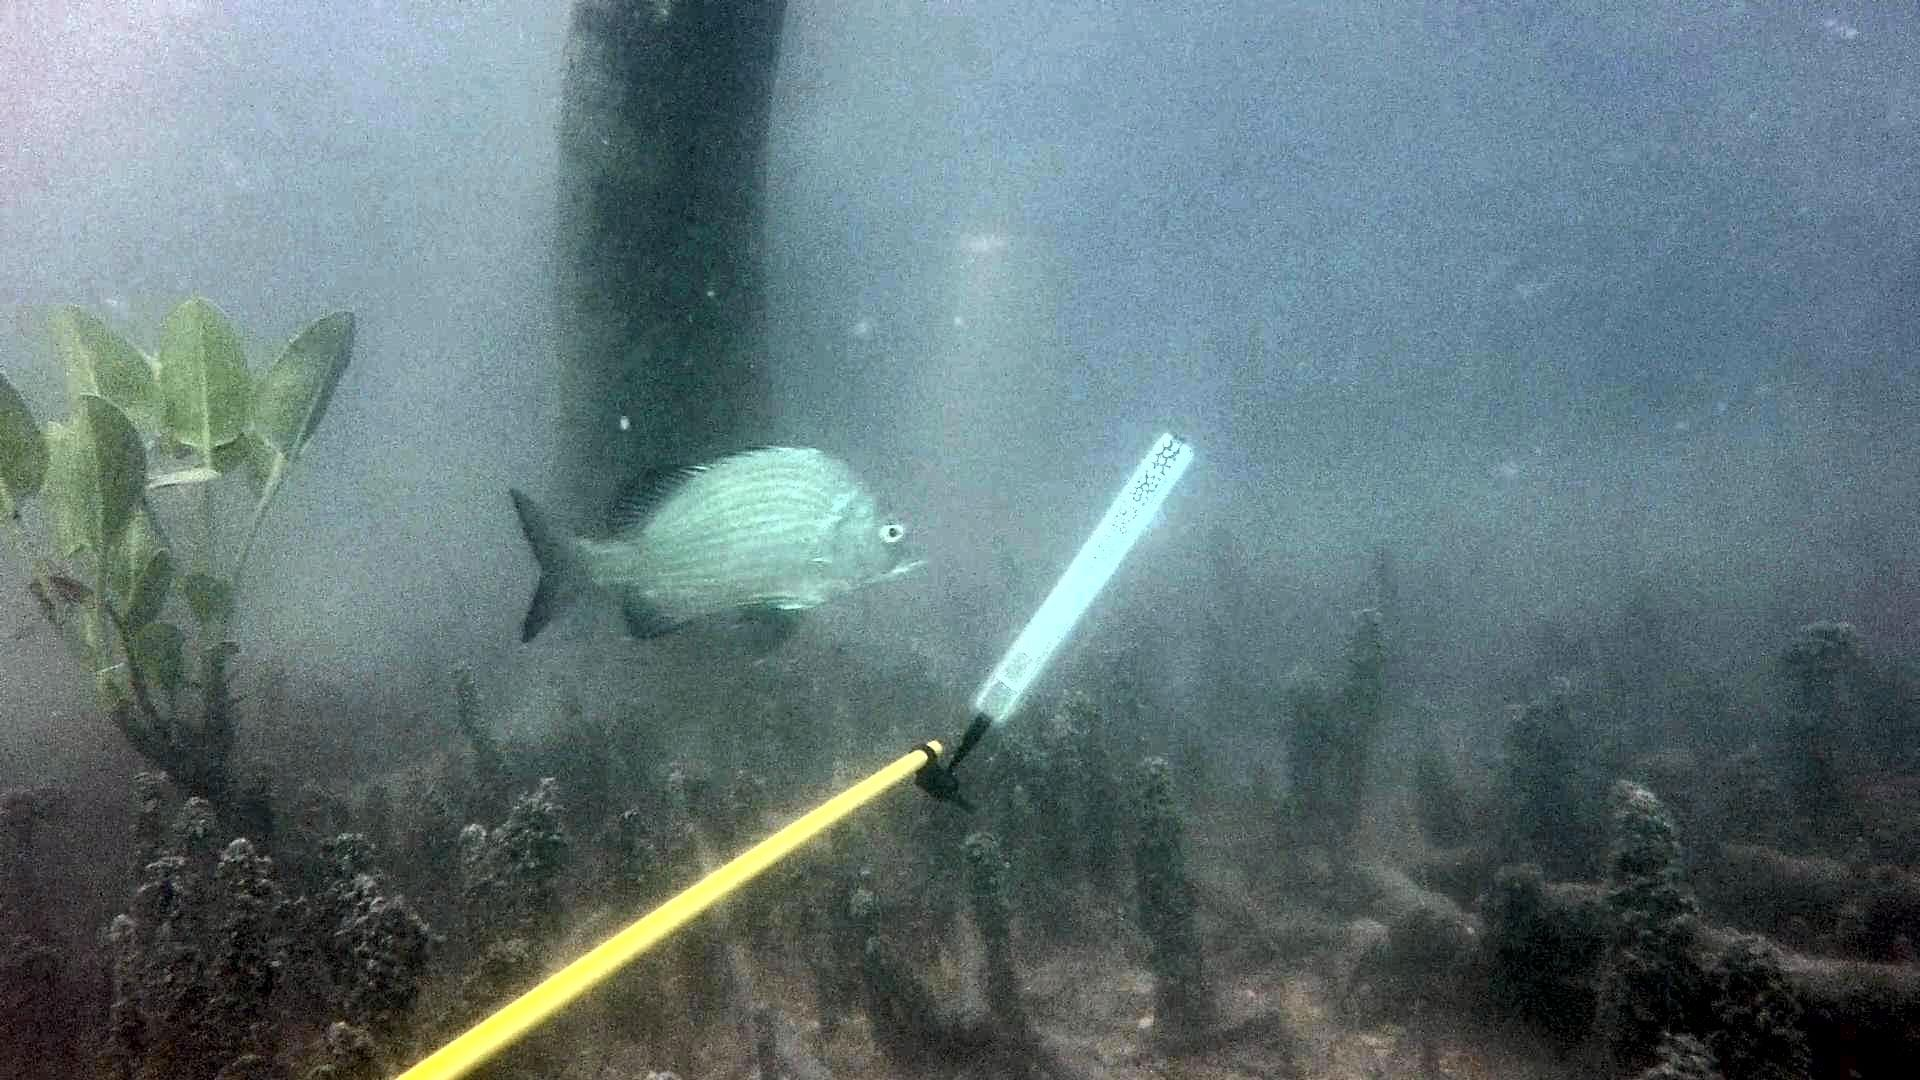acanthopagrus palmaris: (502, 426, 952, 671)
